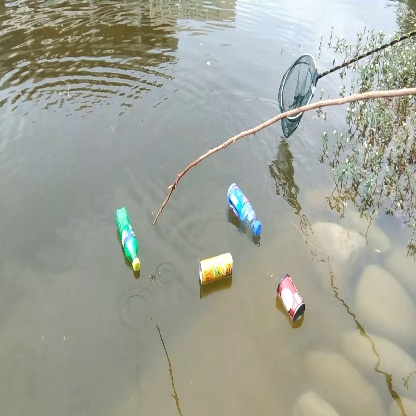bottle: (223, 178, 266, 238), (112, 205, 146, 271), (274, 272, 308, 324), (198, 250, 237, 287)
